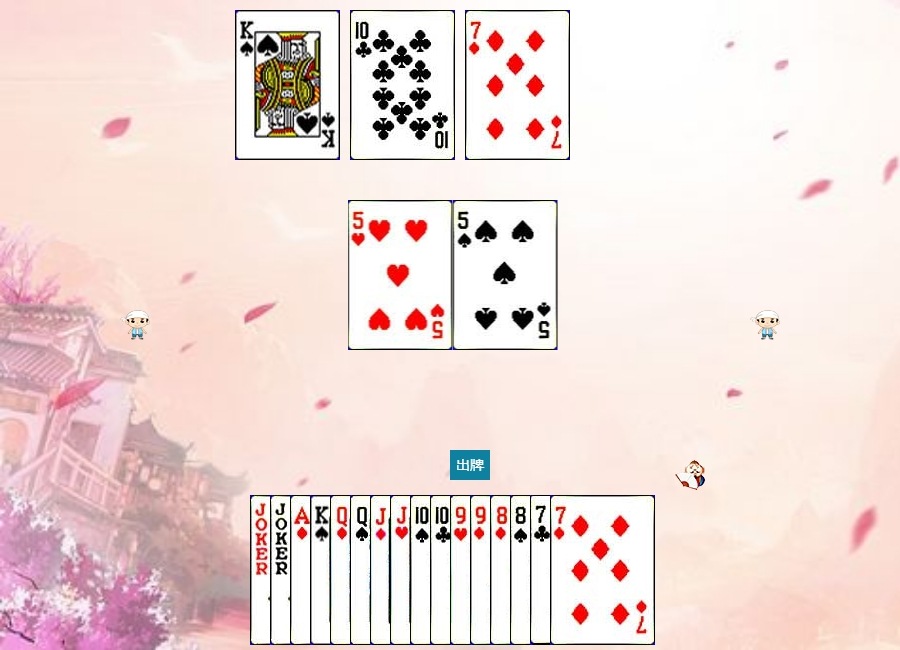10~2: (350, 10, 455, 160), (430, 495, 535, 645)
10~4: (410, 495, 515, 645)
11~1: (370, 495, 475, 645)
11~3: (390, 495, 495, 645)
12~1: (330, 495, 435, 645)
12~4: (350, 495, 455, 645)
13~4: (235, 10, 340, 160), (310, 495, 415, 645)
14~1: (290, 495, 395, 645)
17~3: (270, 495, 375, 645)
18~4: (250, 495, 355, 645)
5~3: (348, 200, 453, 350)
5~4: (453, 200, 558, 350)
7~1: (465, 10, 570, 160), (550, 495, 655, 645)
7~2: (530, 495, 635, 645)
8~1: (490, 495, 595, 645)
8~4: (510, 495, 615, 645)
9~1: (470, 495, 575, 645)
9~3: (450, 495, 555, 645)
